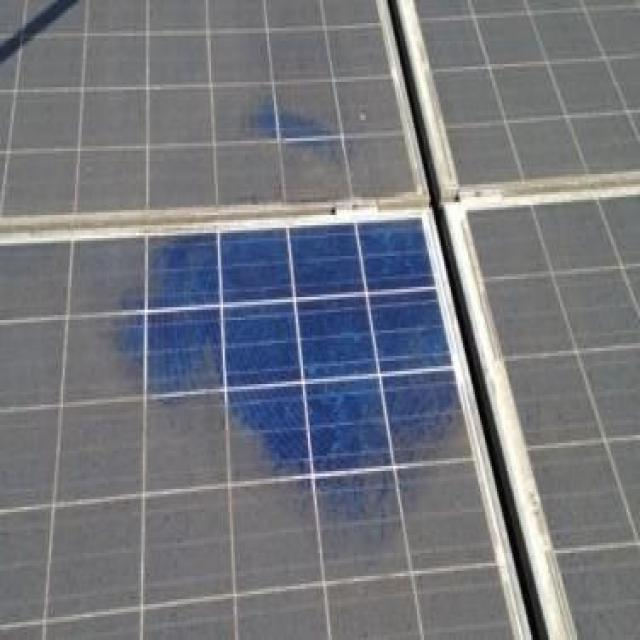Dusty: (0, 222, 516, 640), (0, 0, 417, 215), (464, 198, 640, 640), (414, 0, 640, 183), (0, 0, 58, 47)
